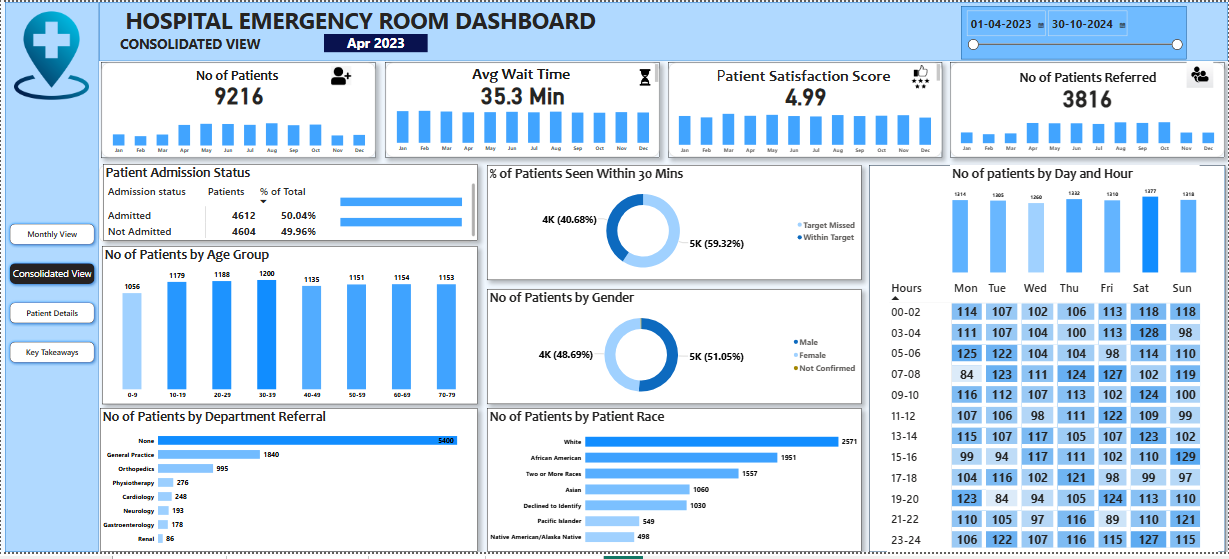

The page's visual inventory and layout, read from the dashboard file:
{"tool":"powerbi","page":{"name":"Consolidated View","canvas":[2900,1300],"ordinal":1},"visuals":[{"type":"shape","box":[10.4,0,221,1300],"z":0},{"type":"shape","box":[237,142.8,650,226.9],"z":1000},{"type":"shape","box":[231.6,0,2668.5,139.5],"z":2000},{"type":"textbox","box":[278.2,0,1141.4,91],"z":3000},{"type":"textbox","box":[277.1,69.9,379.3,64.6],"z":4000},{"type":"card","fields":{"Values":["Hospital ER_Data.No of patients"]},"box":[411.6,177.6,301.3,75.3],"z":5000},{"type":"slicer","title":"Date","fields":{"Values":["Date Table.Date"]},"box":[2269.6,9.7,533.4,126.1],"z":7000},{"type":"textbox","box":[634.4,795.6,325,93.6],"z":9000},{"type":"textbox","box":[236.7,148,642.9,56.5],"z":10000},{"type":"columnChart","fields":{"Y":["Hospital ER_Data.No of patients"],"Category":["Date Table.Month Name"]},"box":[239.4,247.5,648.3,121.1],"z":11000},{"type":"card","fields":{"Values":["Min(Date Table.Month & Year)"]},"box":[764,75.3,244.8,43],"z":12000},{"type":"shape","box":[907.5,142.8,650,226],"z":13000},{"type":"card","fields":{"Values":["Hospital ER_Data.Avg Wait Time"]},"box":[1081.4,177.6,301.3,75.3],"z":14000},{"type":"textbox","box":[906.6,142.6,651,53.8],"z":15000},{"type":"columnChart","fields":{"Category":["Date Table.Month Name"],"Y":["Avg(Hospital ER_Data.Patient Waittime)"]},"box":[909.3,236.7,648.3,126.4],"z":16000},{"type":"shape","box":[1576.4,142.6,648.3,226],"z":17000},{"type":"card","fields":{"Values":["Hospital ER_Data.Patient_Satisfaction score"]},"box":[1751.3,180.2,301.3,75.3],"z":18000},{"type":"textbox","box":[1576.4,142.6,648.3,53.8],"z":19000},{"type":"columnChart","fields":{"Category":["Date Table.Month Name"],"Y":["Hospital ER_Data.Patient_Satisfaction score"]},"box":[1576.4,242.1,648.3,126.4],"z":20000},{"type":"shape","box":[2243.6,142.6,650,226],"z":21000},{"type":"card","fields":{"Values":["Hospital ER_Data.No of Patients Referred"]},"box":[2434.6,185.6,266.3,69.9],"z":22000},{"type":"textbox","box":[2243.6,153.3,651,53.8],"z":23000},{"type":"columnChart","fields":{"Y":["Hospital ER_Data.No of Patients Referred"],"Category":["Date Table.Month Name"]},"box":[2243.6,247.5,651,115.7],"z":24000},{"type":"shape","box":[231.4,384.7,887.8,182.9],"z":25000},{"type":"pivotTable","title":"Patient Admission Status","fields":{"Rows":["Hospital ER_Data.Admission status"],"Values":["Hospital ER_Data.No of patients1","Hospital ER_Data.No of patients"]},"box":[240.5,383.8,886.5,181.1],"z":26000},{"type":"barChart","fields":{"Y":["Hospital ER_Data.No of patients"],"Category":["Hospital ER_Data.Admission status"]},"box":[795.6,426.4,322.4,137.8],"z":27000},{"type":"clusteredColumnChart","title":"No of Patients by Age Group","fields":{"Category":["Hospital ER_Data.Age Group"],"Y":["Hospital ER_Data.No of patients"]},"box":[239.4,575.7,887.8,373.9],"z":28000},{"type":"clusteredBarChart","title":"No of Patients by Department Referral","fields":{"Category":["Hospital ER_Data.Department Referral"],"Y":["Hospital ER_Data.No of patients"]},"box":[234,960.4,893.1,339],"z":29000},{"type":"donutChart","title":"% of Patients Seen Within 30 Mins","fields":{"Category":["Hospital ER_Data.Waittime Status"],"Y":["Hospital ER_Data.No of patients"]},"box":[1148.7,384.7,885.1,271.7],"z":30000},{"type":"donutChart","title":"No of Patients by Gender","fields":{"Y":["Hospital ER_Data.No of patients"],"Category":["Hospital ER_Data.Patient Gender"]},"box":[1148.7,677.9,885.1,271.7],"z":31000},{"type":"clusteredBarChart","title":"No of Patients by Patient Race","fields":{"Y":["Hospital ER_Data.No of patients"],"Category":["Hospital ER_Data.Patient Race"]},"box":[1148.7,960.4,885.1,339],"z":32000},{"type":"shape","box":[2052.6,384.7,842,914.7],"z":33000},{"type":"pivotTable","fields":{"Rows":["Hospital ER_Data.Waittime Interval"],"Columns":["Date Table.Day Name"],"Values":["Hospital ER_Data.No of patients"]},"box":[2093,650,782.6,650],"z":34000},{"type":"columnChart","title":"No of patients by Day and Hour","fields":{"Category":["Date Table.Day Name"],"Y":["Hospital ER_Data.No of patients"]},"box":[2243.8,384.8,590.2,260],"z":35000},{"type":"image","box":[9.7,16.2,219.8,219.8],"z":36000},{"type":"image","box":[2784.6,135.2,98.8,72.8],"z":37000},{"type":"image","box":[1487.2,153.4,70.2,49.4],"z":38000},{"type":"image","box":[2121.6,143,101.4,65],"z":39000},{"type":"image","box":[727.4,145.5,152,55],"z":40000},{"type":"pageNavigator","box":[10.8,516.2,218.9,348.6],"z":40001}]}

Visuals, with their boxes in screenshot pixels (x1, y1, x2, y2), scaled from the page's 2900x1300 canvas onto the 1229x559 screenshot:
shape: 4:0:98:558
shape: 100:61:376:159
shape: 98:0:1228:60
textbox: 118:0:602:39
textbox: 117:30:278:58
card - Hospital ER_Data.No of patients: 174:76:302:109
"Date" slicer: 962:4:1188:58
textbox: 269:342:407:382
textbox: 100:64:373:88
columnChart - Hospital ER_Data.No of patients x Date Table.Month Name: 101:106:376:158
card - Min(Date Table.Month & Year): 324:32:428:51
shape: 385:61:660:159
card - Hospital ER_Data.Avg Wait Time: 458:76:586:109
textbox: 384:61:660:84
columnChart - Date Table.Month Name x Avg(Hospital ER_Data.Patient Waittime): 385:102:660:156
shape: 668:61:943:158
card - Hospital ER_Data.Patient_Satisfaction score: 742:77:870:110
textbox: 668:61:943:84
columnChart - Date Table.Month Name x Hospital ER_Data.Patient_Satisfaction score: 668:104:943:158
shape: 951:61:1226:158
card - Hospital ER_Data.No of Patients Referred: 1032:80:1145:110
textbox: 951:66:1227:89
columnChart - Hospital ER_Data.No of Patients Referred x Date Table.Month Name: 951:106:1227:156
shape: 98:165:474:244
"Patient Admission Status" pivotTable: 102:165:478:243
barChart - Hospital ER_Data.No of patients x Hospital ER_Data.Admission status: 337:183:474:243
"No of Patients by Age Group" clusteredColumnChart: 101:248:478:408
"No of Patients by Department Referral" clusteredBarChart: 99:413:478:558
"% of Patients Seen Within 30 Mins" donutChart: 487:165:862:282
"No of Patients by Gender" donutChart: 487:291:862:408
"No of Patients by Patient Race" clusteredBarChart: 487:413:862:558
shape: 870:165:1227:558
pivotTable - Hospital ER_Data.Waittime Interval x Date Table.Day Name: 887:280:1219:558
"No of patients by Day and Hour" columnChart: 951:165:1201:277
image: 4:7:97:101
image: 1180:58:1222:89
image: 630:66:660:87
image: 899:61:942:89
image: 308:63:373:86
pageNavigator: 5:222:97:372
